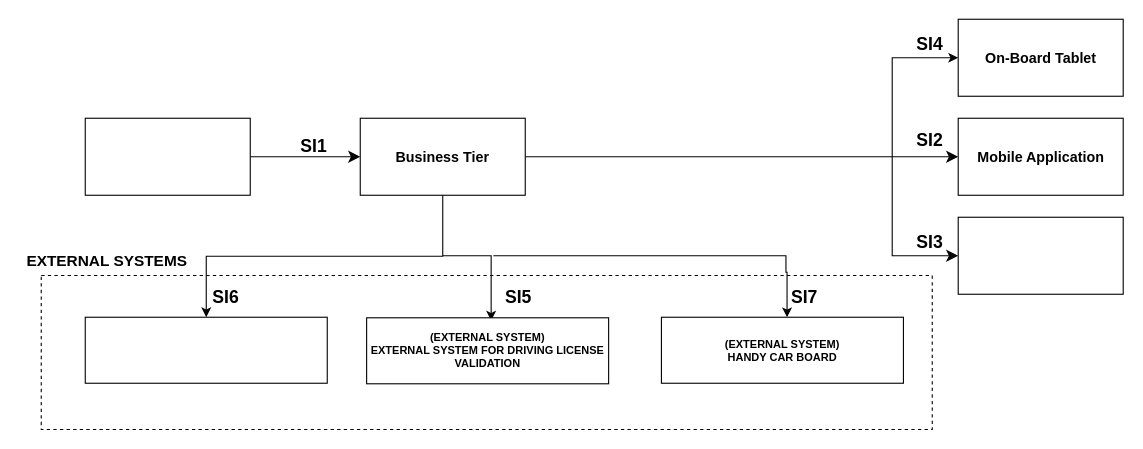
The diagram is 1143 pixels wide and 449 high, and some of its shapes have lost their labels. Here are the shapes that lost their labels. From the top down, the box of each, then its label:
(84, 117, 250, 195): Database Tier
(957, 216, 1123, 294): Power EnJoy Operator Terminal
(84, 316, 327, 383): (EXTERNAL SYSTEM) EXTERNAL SYSTEM FOR PAYMENT
